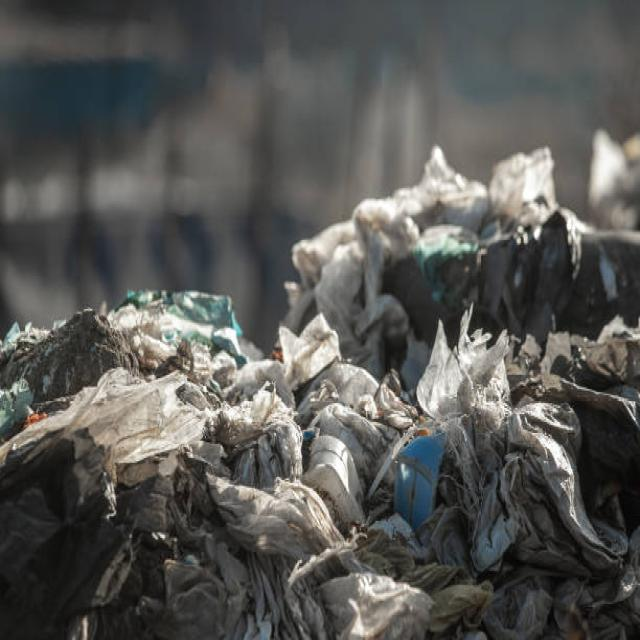trash: (28, 157, 593, 579)
